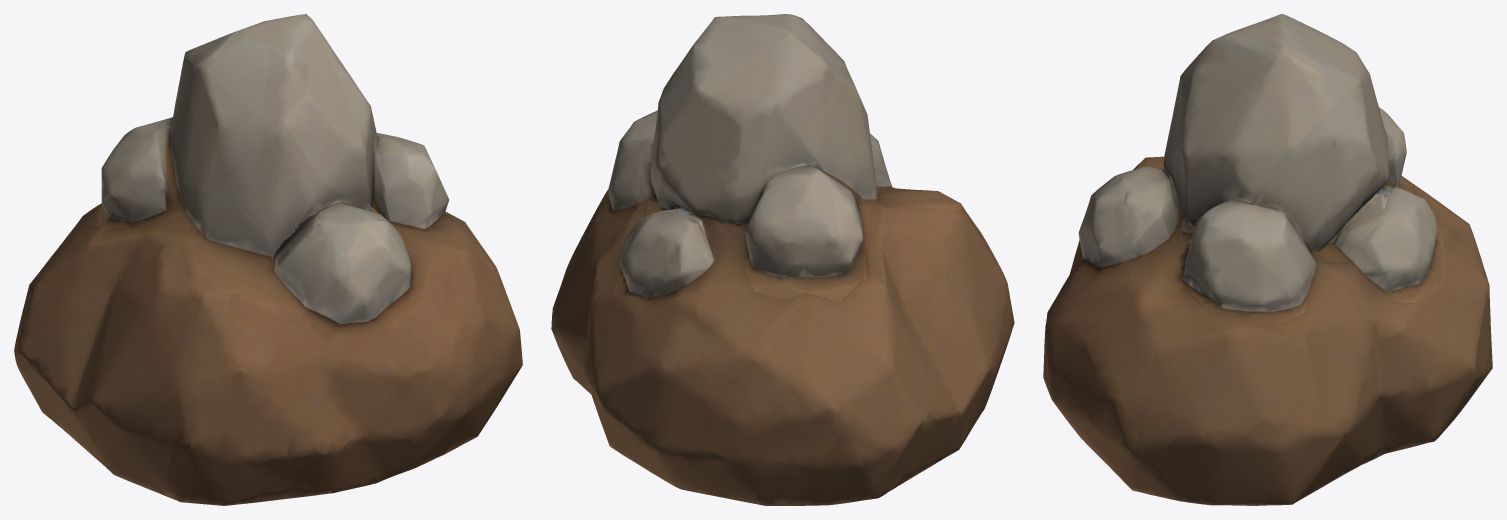
File: iron_ore.glb
The picture shows the model from 3 angles, left to right: view 1: azimuth 30°, elevation 25°; view 2: azimuth 150°, elevation 25°; view 3: azimuth 270°, elevation 25°; orthographic projection.
Bounding box in the file's own units: 2 × 1.86 × 1.91.
1 material, 1 textured.
